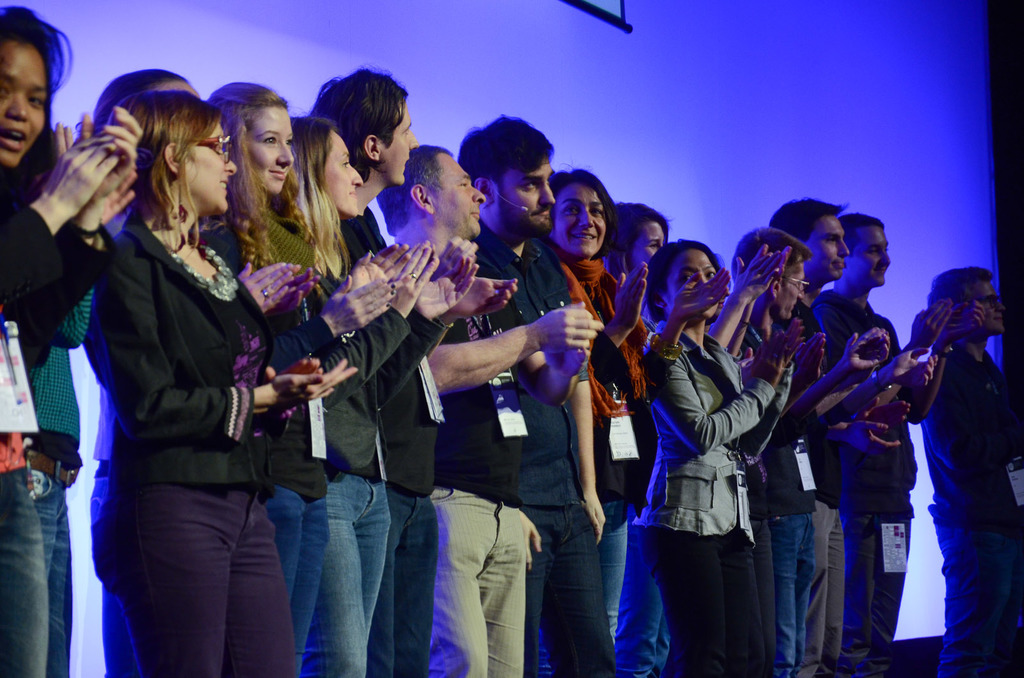Person: (0, 5, 1024, 678)
